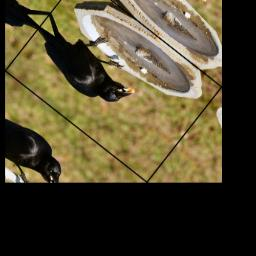Crow: (23, 2, 151, 120)
